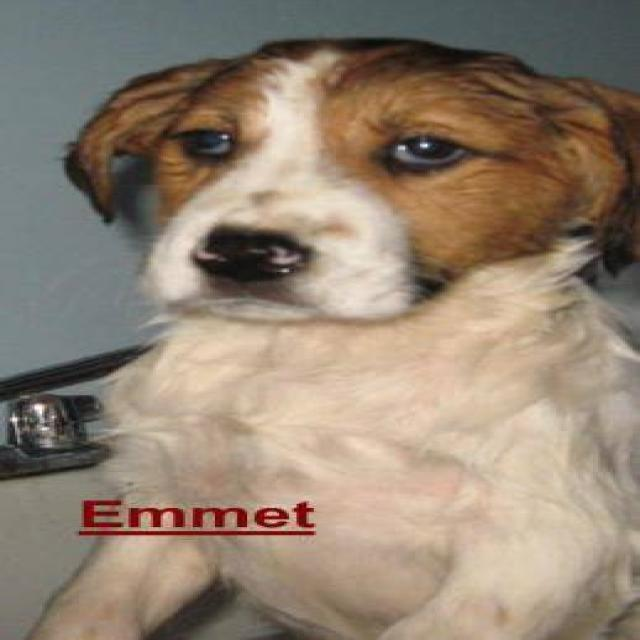sad: (24, 38, 640, 639)
